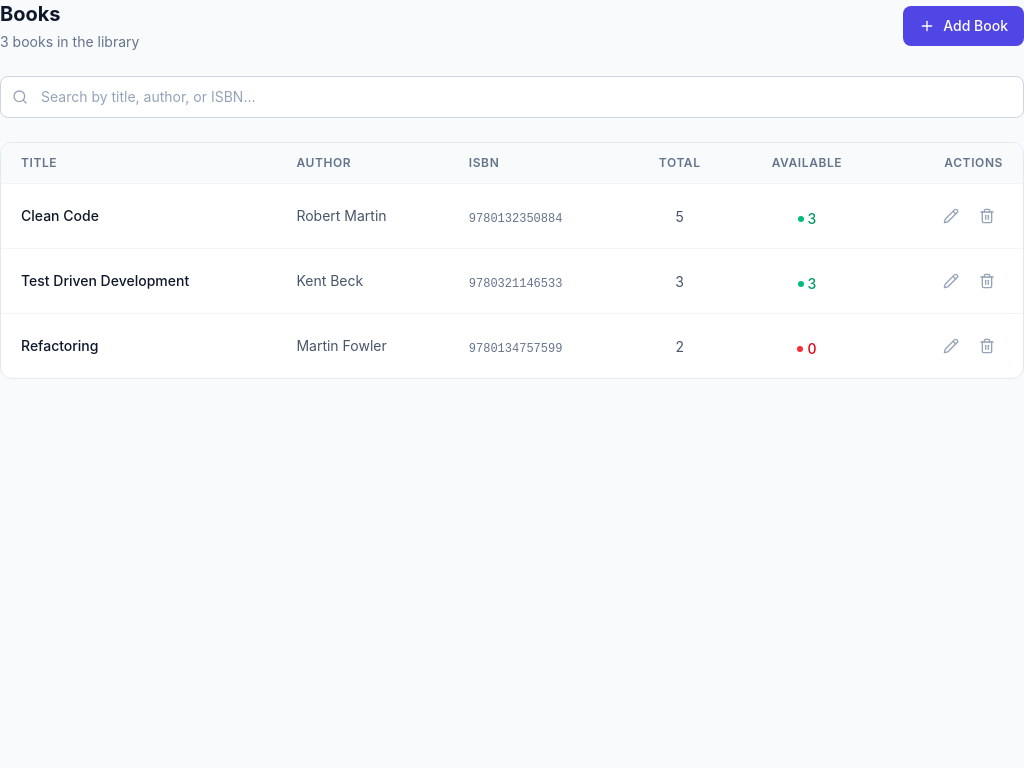
Books › opens edit modal and closes it with Cancel button
Expected: the text "Clean Code" is shown, [21,207,99,224]
What coordinates should you click on to do the following:
click the button titled "Edit book" in the row of "Clean Code"
I would click on:
 (951, 216)
Its box is [935,200,967,232].
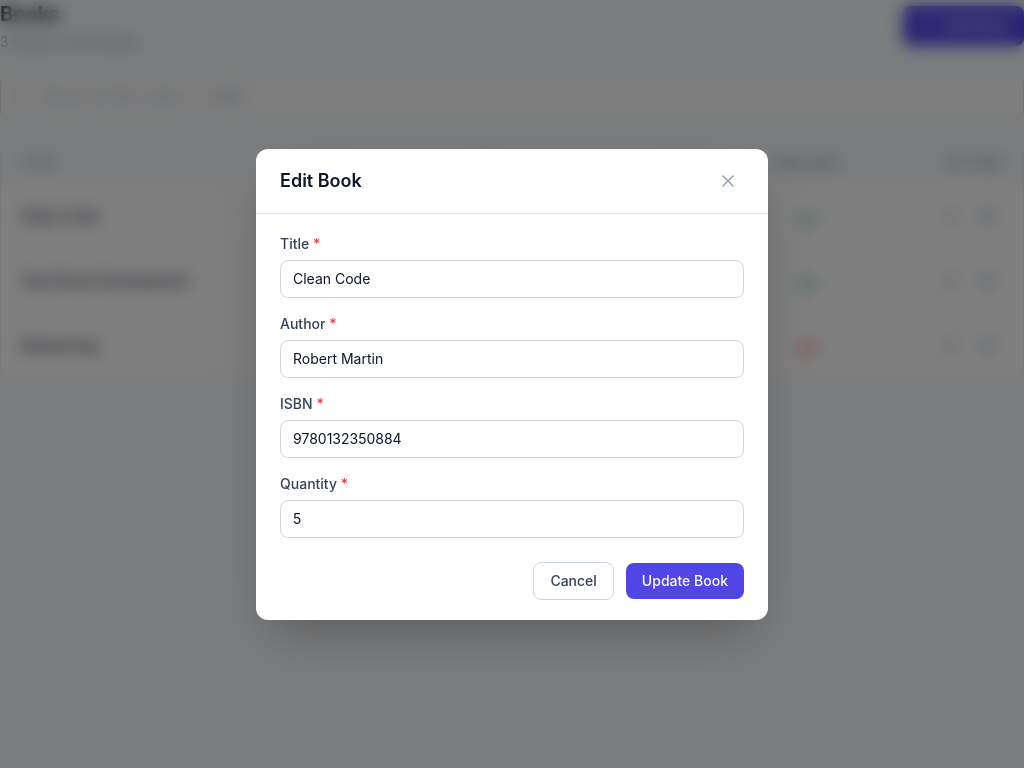
Now the heading "Edit Book" is shown, box [280,166,362,194]
What coordinates should you click on to do the following:
click the button "Cancel"
I would click on:
 (574, 580)
Its box is [533,562,614,600].
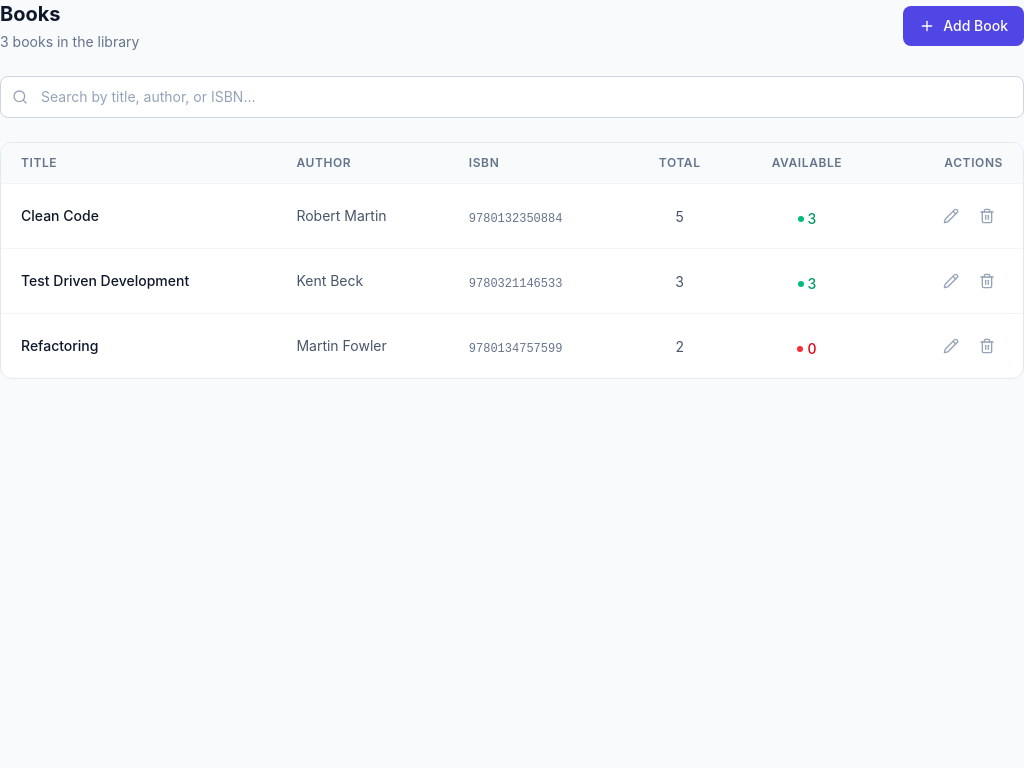
Now the heading "Edit Book" is gone
